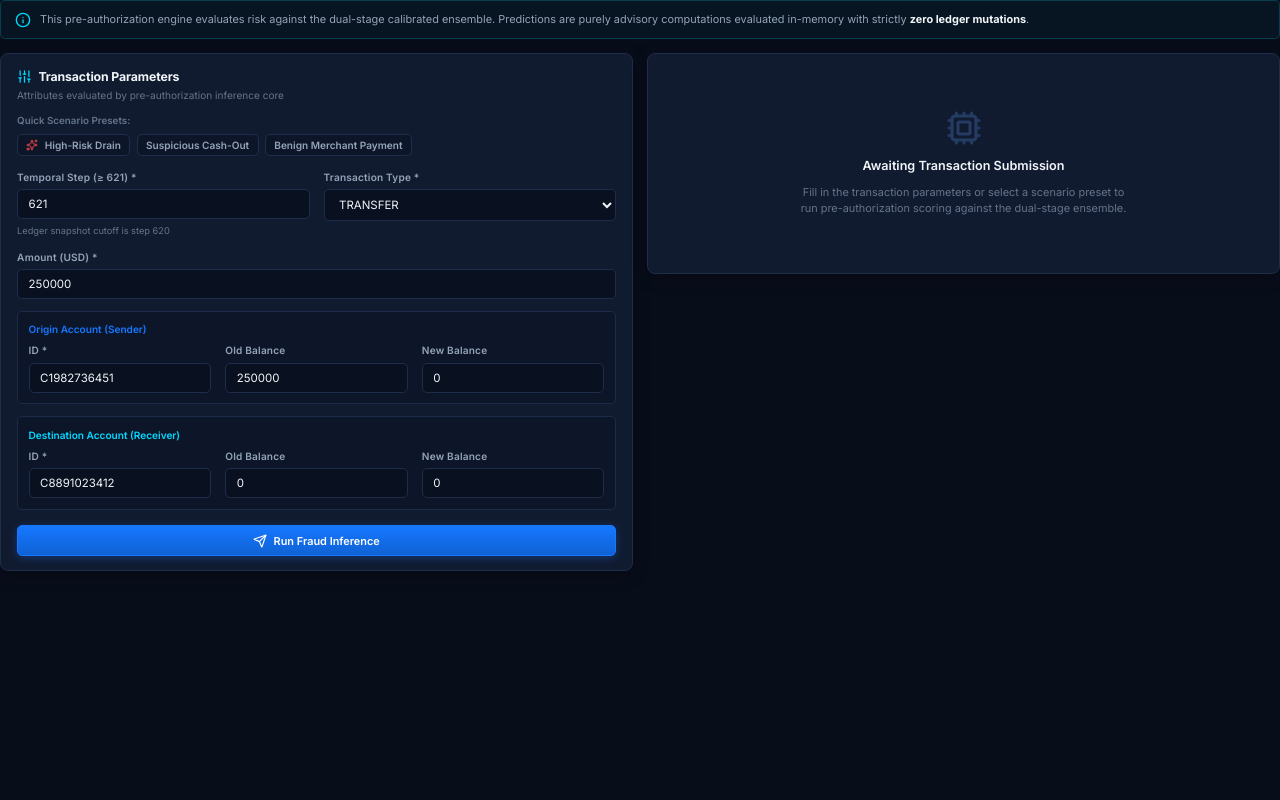
Test case: PredictionPage Component › validates step >= 621 before submitting
Replace the text in the number field labelled "Temporal Step (≥ 621) *" with "615" at (163, 204), box x1=17 y1=189 x2=310 y2=219
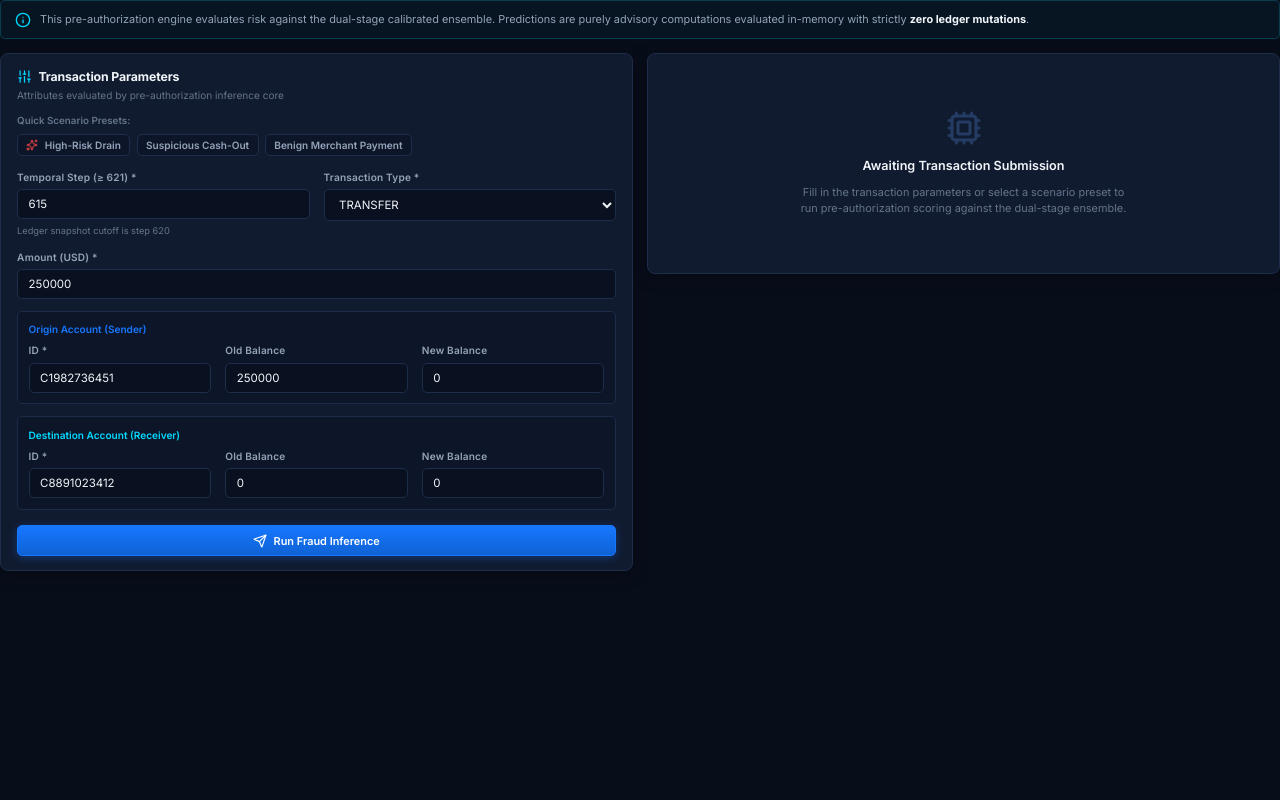
Submit the form named "Run Fraud Inference", box x1=17 y1=170 x2=616 y2=556
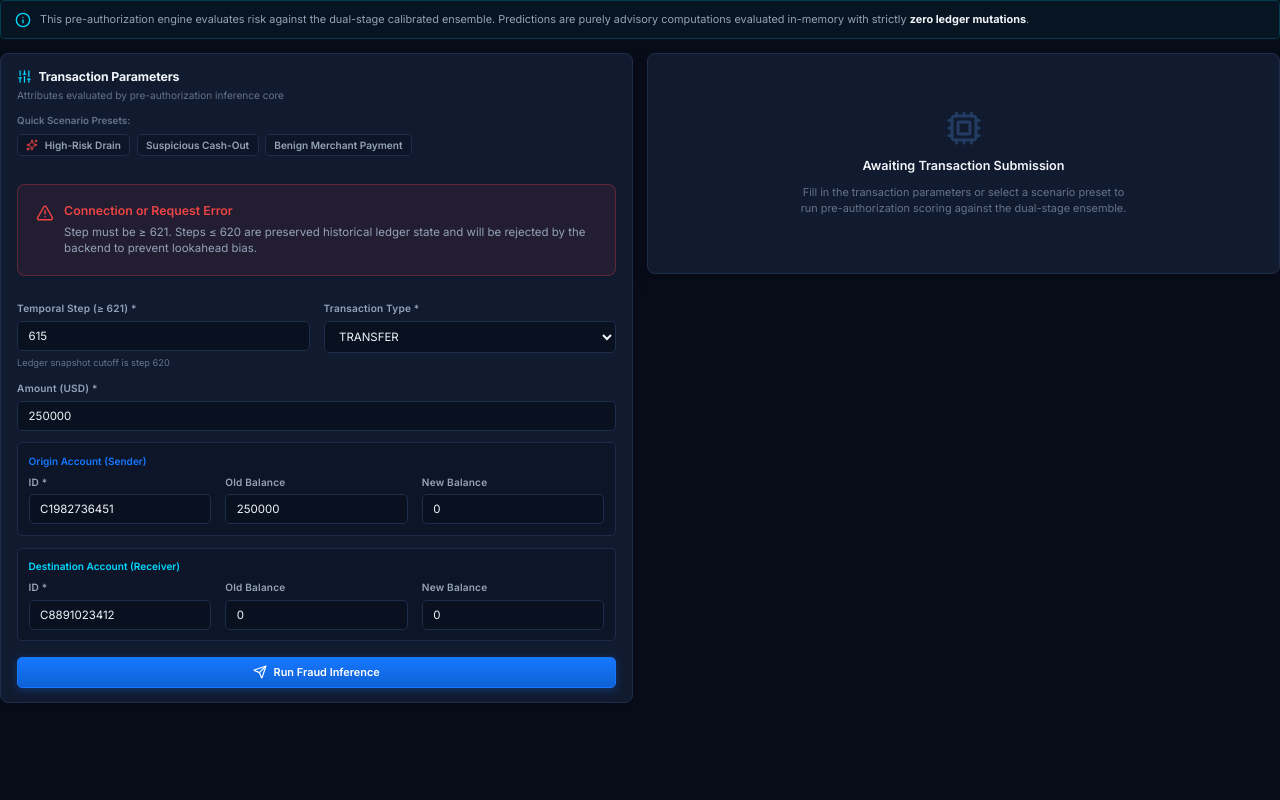
Now the text "Step must be ≥ 621. Steps ≤ 620 are preserved historical ledger state" is shown, box x1=64 y1=225 x2=586 y2=255
